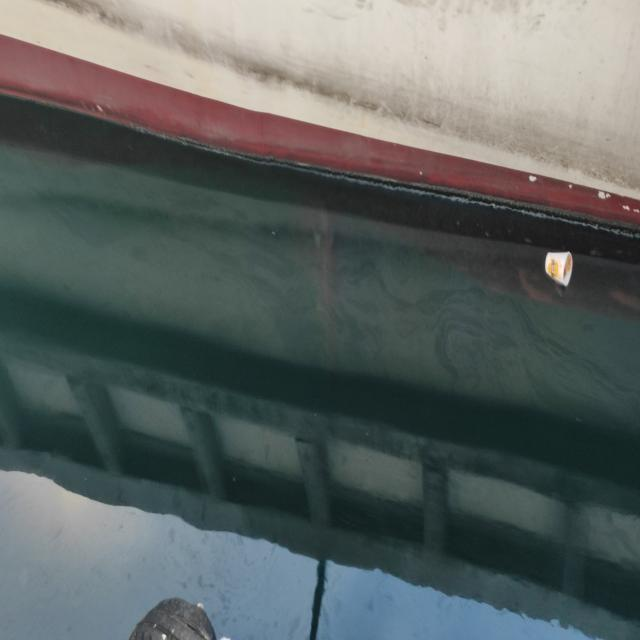Plastic cup: (544, 249, 574, 288)
